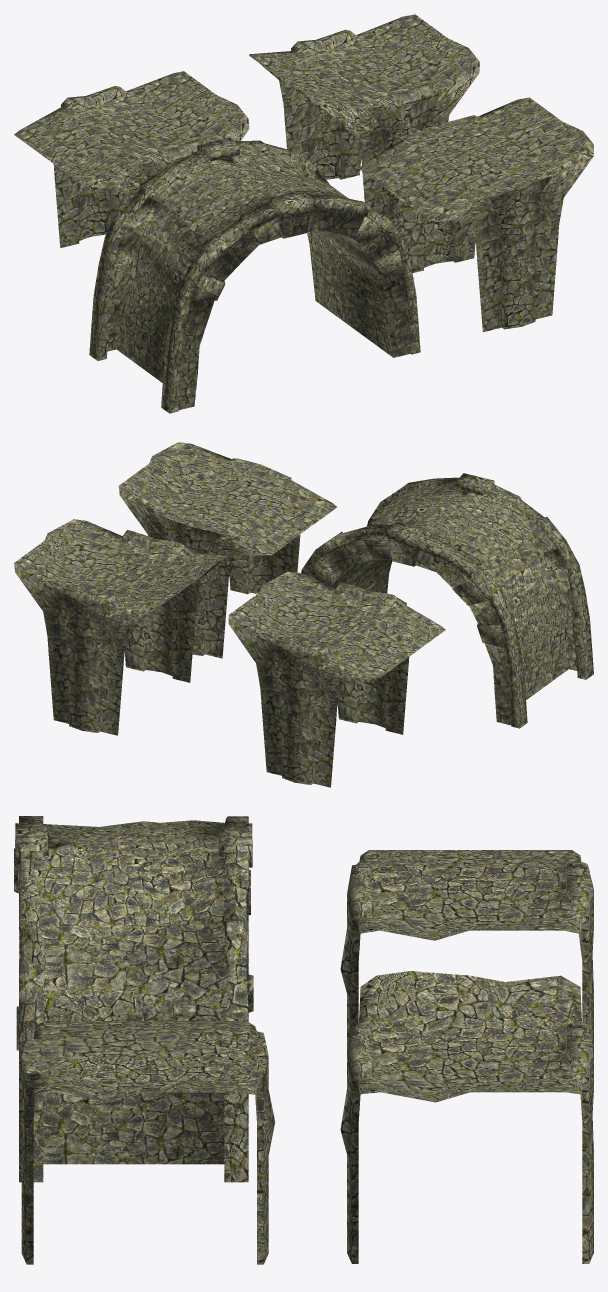
The model's file is BridgModulesOptimized.FBX.
3 views of the same model, one above another, from view 1: azimuth 30°, elevation 25°; view 2: azimuth 150°, elevation 25°; view 3: azimuth 270°, elevation 25° (orthographic). The views are drawn at different scales.
Visible parts, largest first — view 1: Object270, Object268, Object276, Object273; view 2: Object270, Object273, Object276, Object268; view 3: Object270, Object276, Object273, Object268.
Boxes of the visible parts, box(x1,y1,x2,y2) form: Object270: box(89, 137, 420, 413); Object268: box(359, 97, 593, 332); Object276: box(249, 14, 479, 235); Object273: box(14, 71, 249, 247); Object270: box(301, 473, 593, 728); Object273: box(228, 571, 445, 787); Object276: box(14, 519, 228, 735); Object268: box(118, 442, 336, 658); Object270: box(14, 816, 253, 1182); Object276: box(340, 971, 593, 1263); Object273: box(340, 850, 593, 1092); Object268: box(21, 1021, 275, 1264).
Size of the model in its own units: 29.33 by 11.44 by 23.11.
